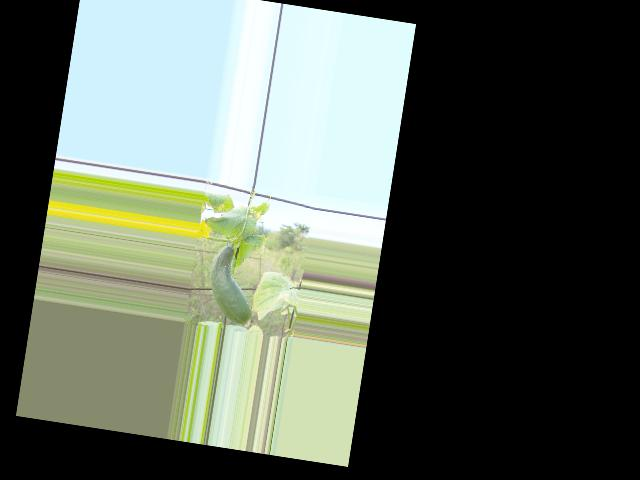cucumber: (204, 242, 261, 325)
